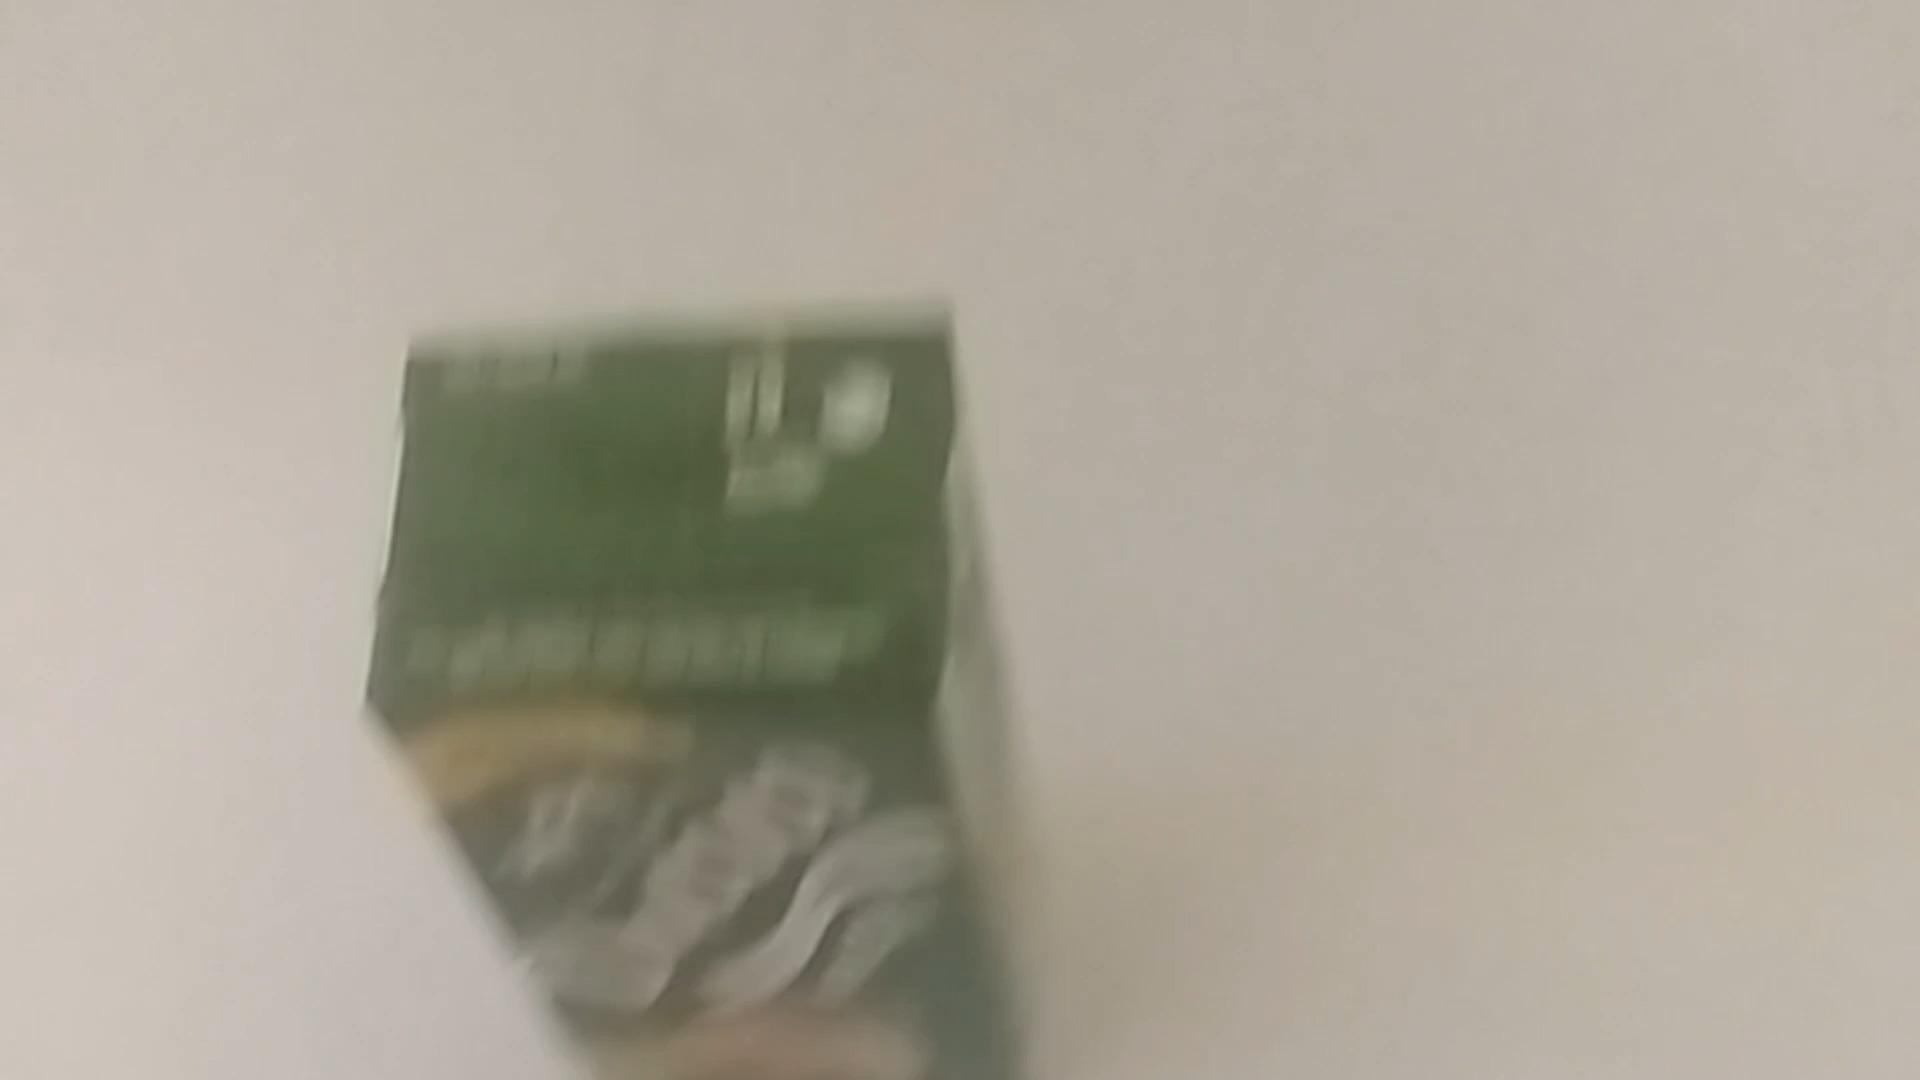coco: (363, 315, 1044, 1080)
